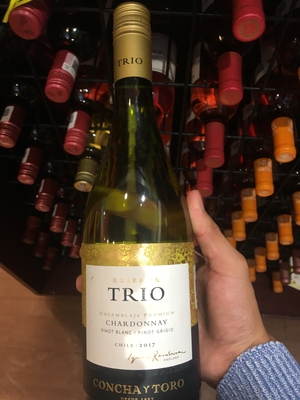trio chardonnay: (77, 6, 203, 400)
